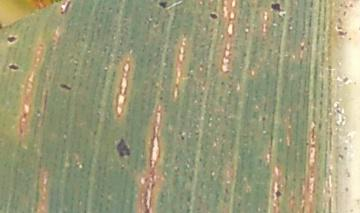tarspot: (115, 136, 131, 158), (270, 1, 284, 13), (58, 83, 73, 91), (7, 63, 20, 72), (208, 11, 218, 22), (274, 187, 283, 199), (336, 29, 348, 38), (158, 1, 169, 10), (6, 35, 17, 44), (339, 75, 349, 84), (260, 114, 267, 123), (335, 23, 344, 30), (336, 15, 343, 24), (336, 153, 344, 160), (158, 93, 164, 102), (348, 2, 355, 9), (342, 9, 348, 17), (343, 185, 349, 192), (180, 134, 185, 142), (357, 24, 360, 32)
